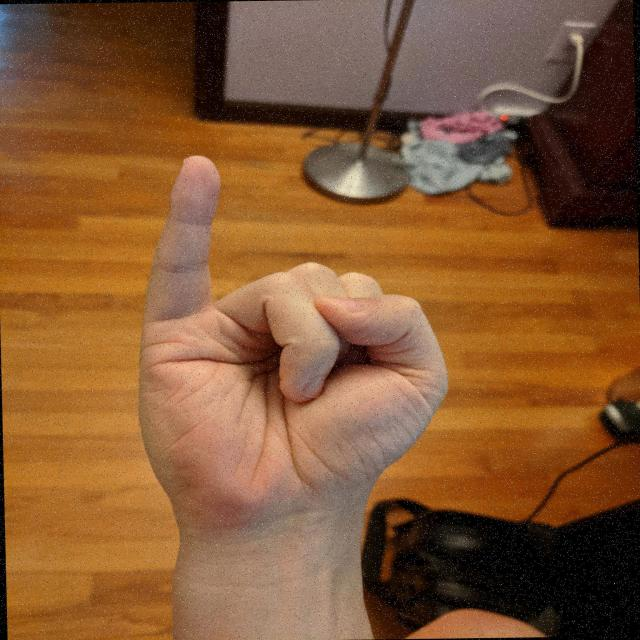I: (122, 145, 460, 540)
